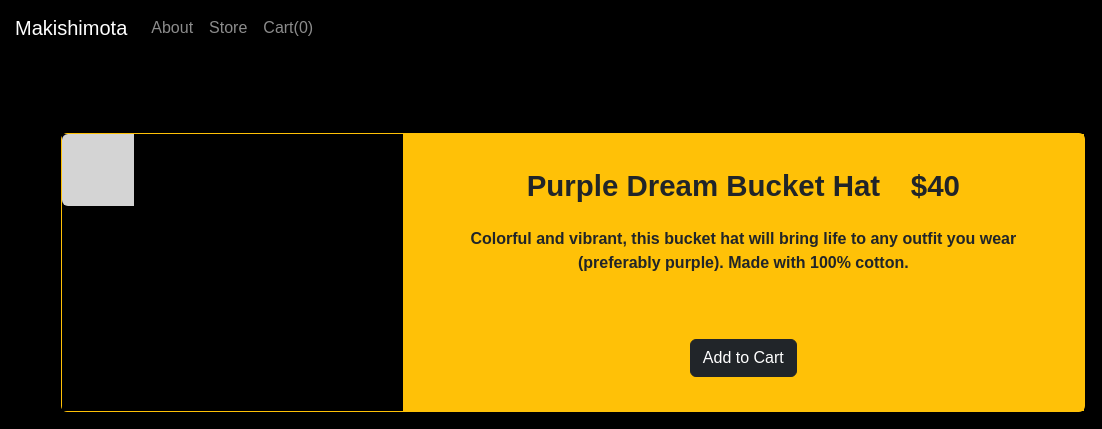
Test: Product is visible in cart
click add to cart
Click the button "Add to Cart".
click(743, 358)  # box [690,339,797,377]
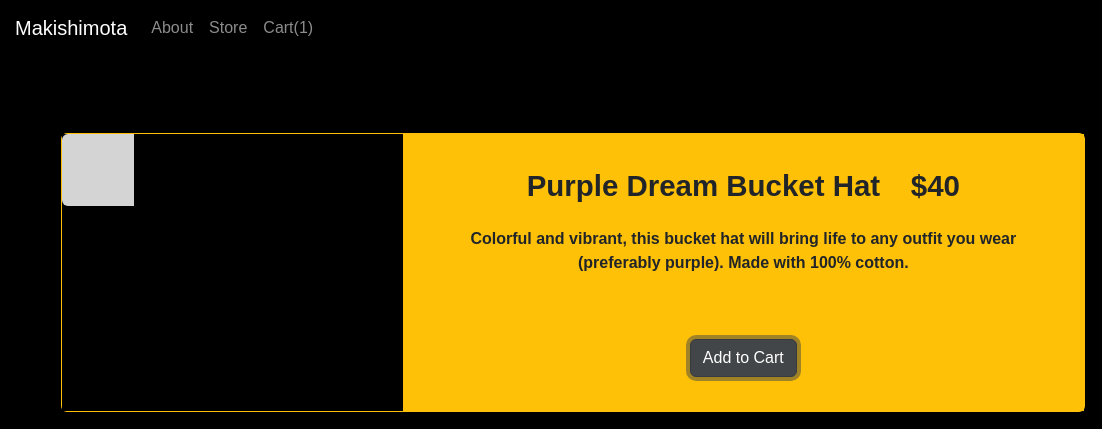
navigate to shop page
Click the link "Cart(1)".
click(288, 28)  # box [255,8,321,48]
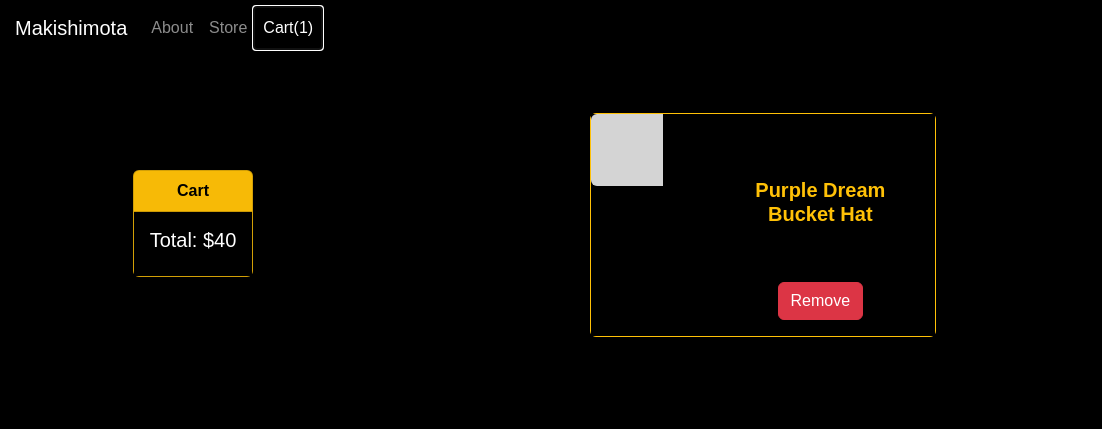
Expected: the heading "Total: $40" is shown, [150,228,236,252]
